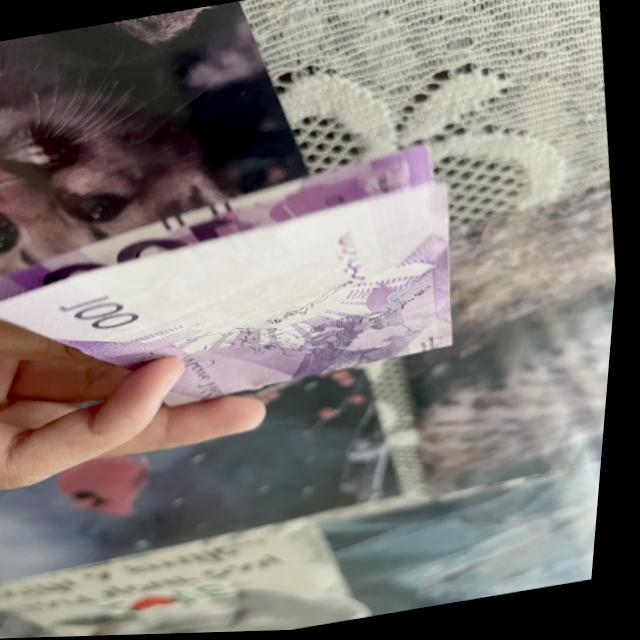value: (42, 207, 255, 290)
